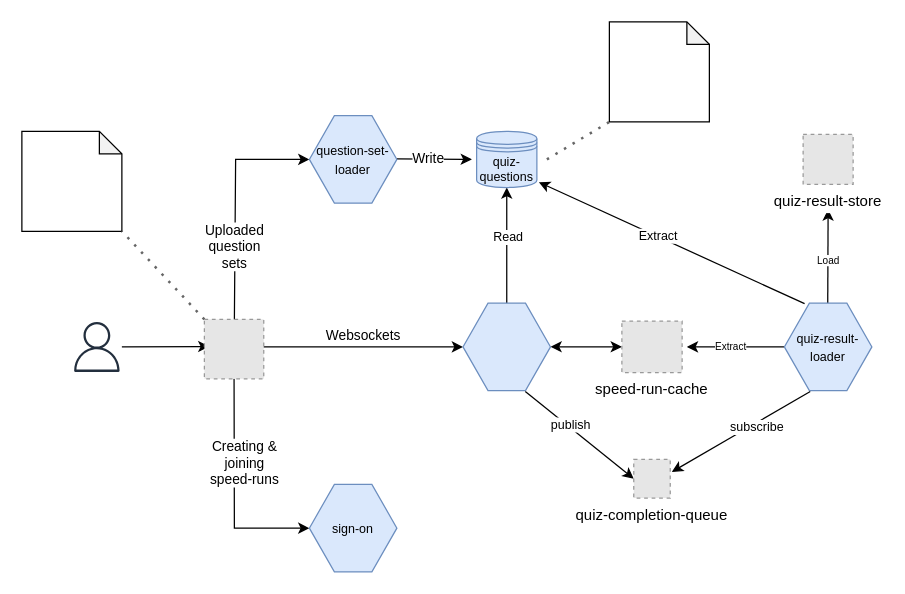
Some shapes in this 905 by 594 pixel diagram are drawn without their labels. Grey dashed boxes stand in for pictures. The shapes that lost their labels are listed below. From the top down, each one's centre as x and y in pixels, then its label:
At [658,71]: "docker volume mounted on 3 host containers".
At [71,180]: "Serves frontend static assets".
At [506,346]: "speed-run".
